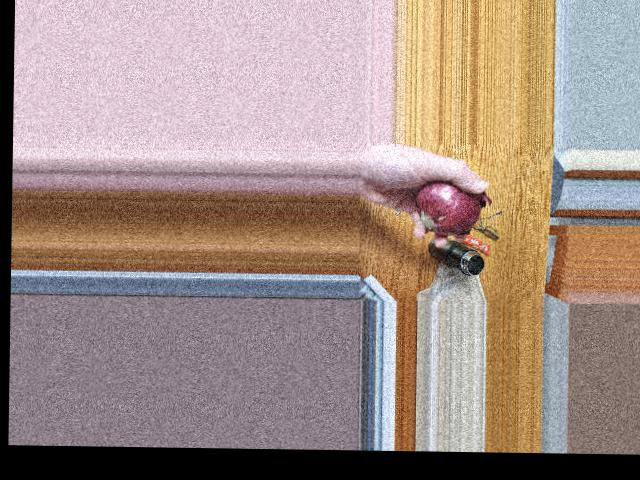onion: (419, 173, 474, 227)
